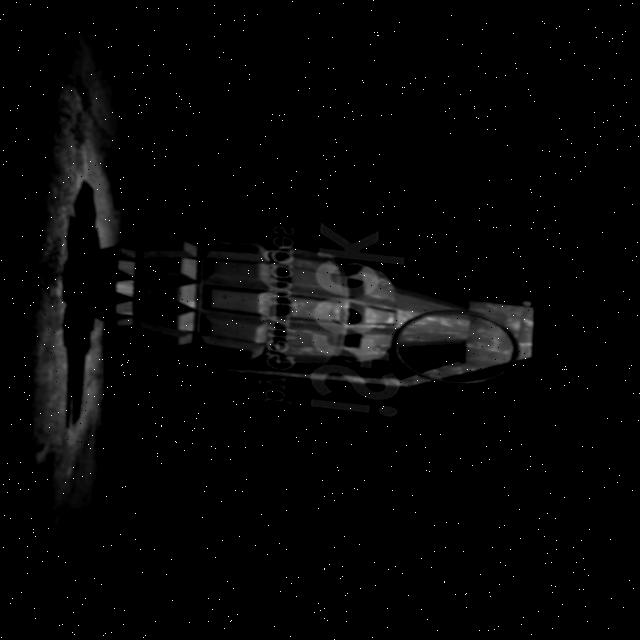grenade: (40, 174, 572, 448)
